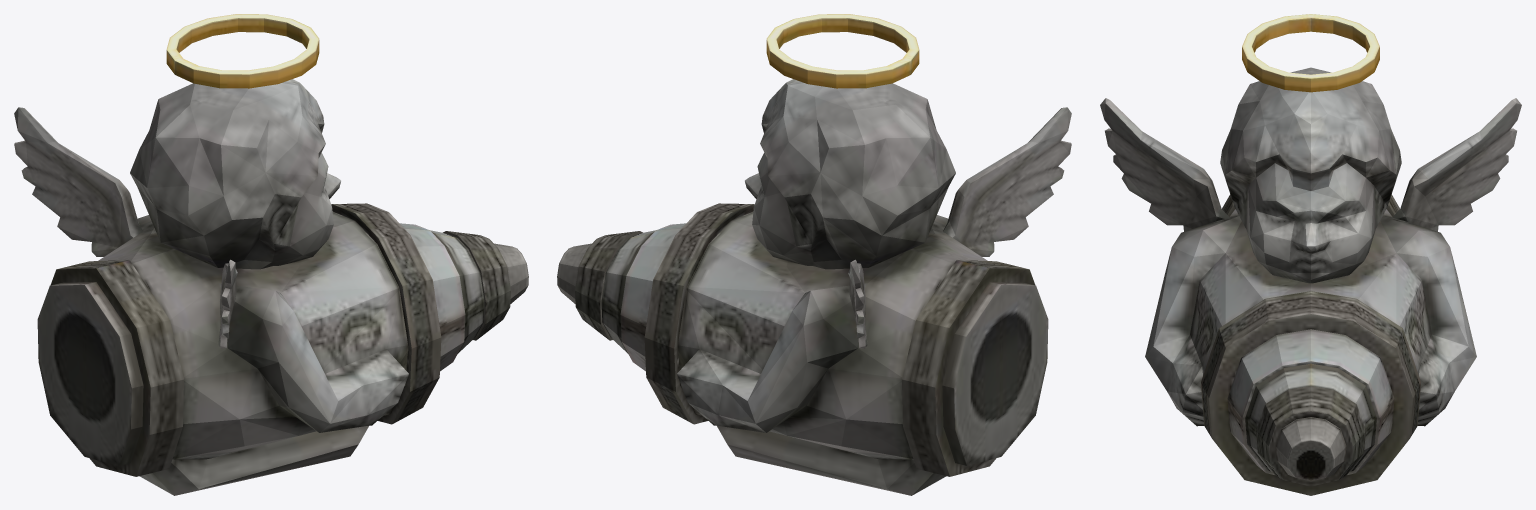
File: holywater.glb
3 views of the same model, side by side, from view 1: azimuth 30°, elevation 25°; view 2: azimuth 150°, elevation 25°; view 3: azimuth 270°, elevation 25° (orthographic). The views are drawn at different scales.
Parts seen in each view (by area): view 1: SM_HolyWater; view 2: SM_HolyWater; view 3: SM_HolyWater.
Part boxes in pixels (x1,y1,x2,y2): SM_HolyWater: (14, 14, 528, 495); SM_HolyWater: (557, 14, 1071, 495); SM_HolyWater: (1100, 14, 1521, 495).
Bounding box in the file's own units: 0.3376 × 0.312 × 0.2927.
Materials: 1 (1 with a texture image).
